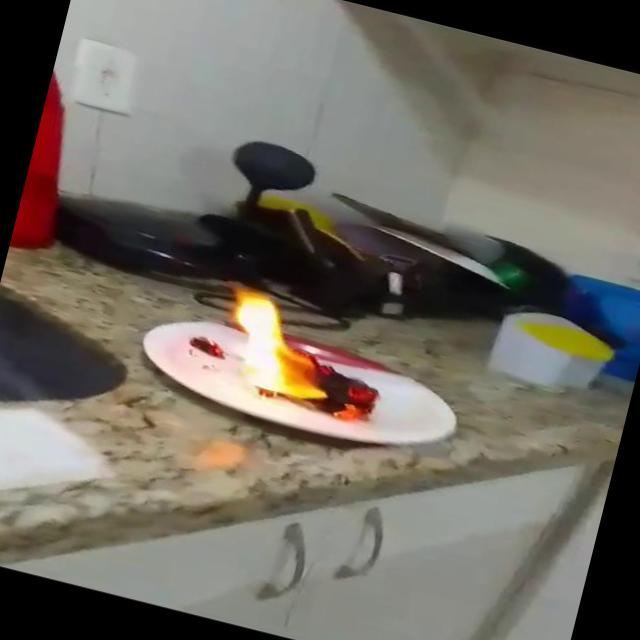Fire: (204, 282, 398, 430)
